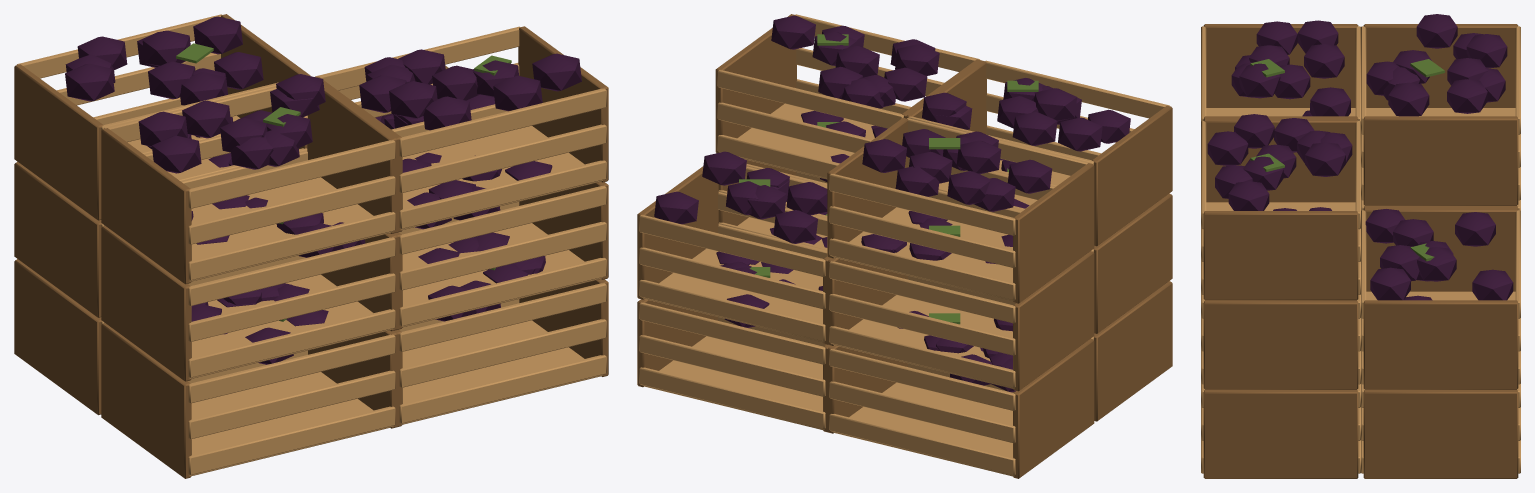
The model's file is pila.glb.
3 renders of one model, left to right at view 1: azimuth 30°, elevation 25°; view 2: azimuth 150°, elevation 25°; view 3: azimuth 270°, elevation 25°, orthographic. The views are drawn at different scales.
Visible parts, largest first — view 1: pila; view 2: pila; view 3: pila.
Boxes of the visible parts, x1,y1,x2,y2 form: pila: (14,14,608,478); pila: (637,14,1172,478); pila: (1201,14,1520,478).
Bounding box in the file's own units: 1.69 × 1.2 × 1.2.
